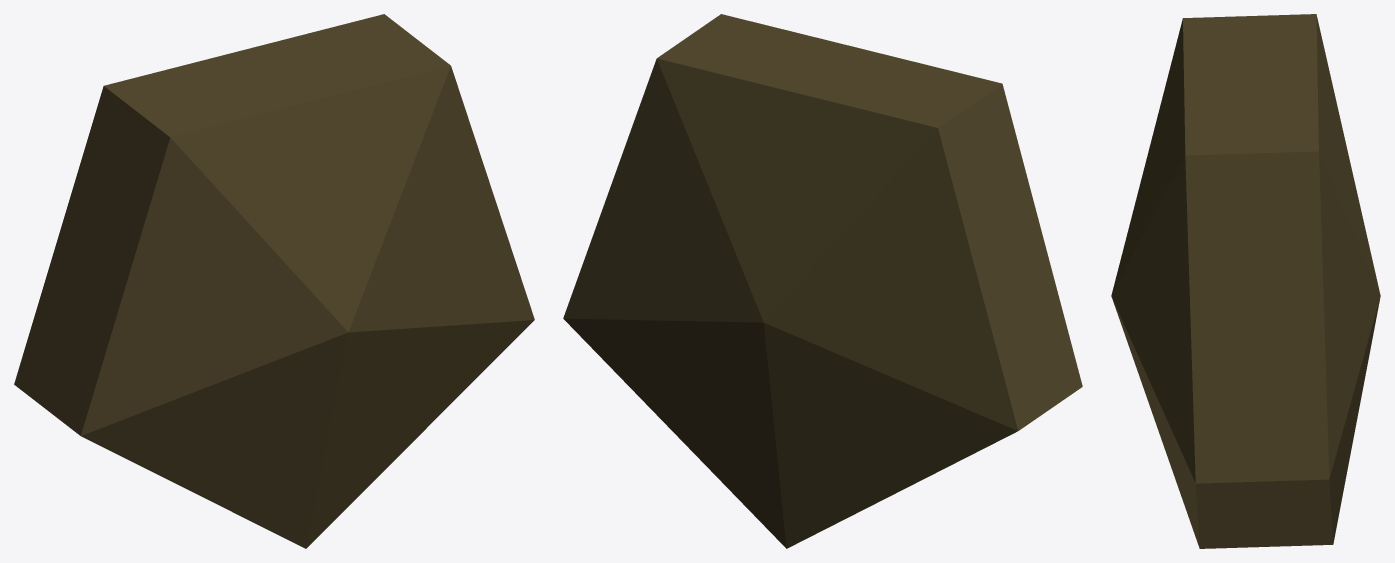
Rendered from BlackHole.Piece.01.fbx.
The picture shows the model from 3 angles, left to right: view 1: azimuth 30°, elevation 25°; view 2: azimuth 150°, elevation 25°; view 3: azimuth 270°, elevation 25°; orthographic projection. The views are drawn at different scales.
Parts seen in each view (by area): view 1: BH.Piece.01; view 2: BH.Piece.01; view 3: BH.Piece.01.
Part boxes in pixels (box(x1,y1,x2,y2)): BH.Piece.01: box(14, 14, 534, 548); BH.Piece.01: box(563, 14, 1082, 548); BH.Piece.01: box(1111, 14, 1380, 548).
Size of the model in its own units: 193 by 185 by 97.14.
